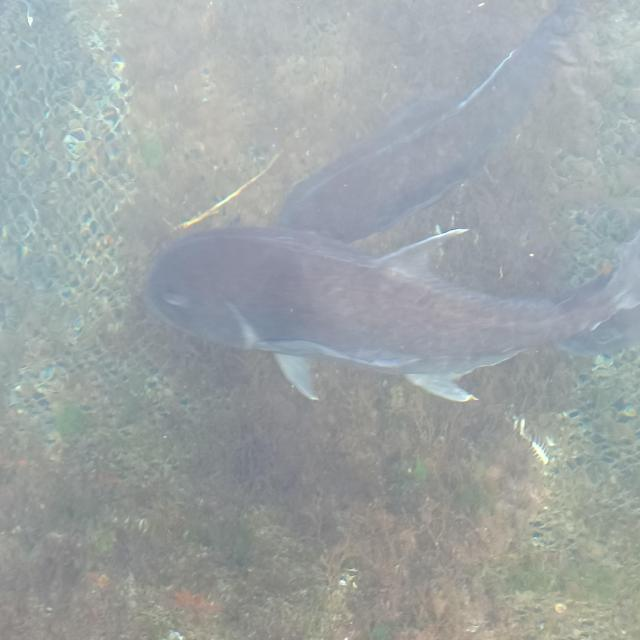ikan: (144, 4, 638, 407), (144, 219, 633, 405)
